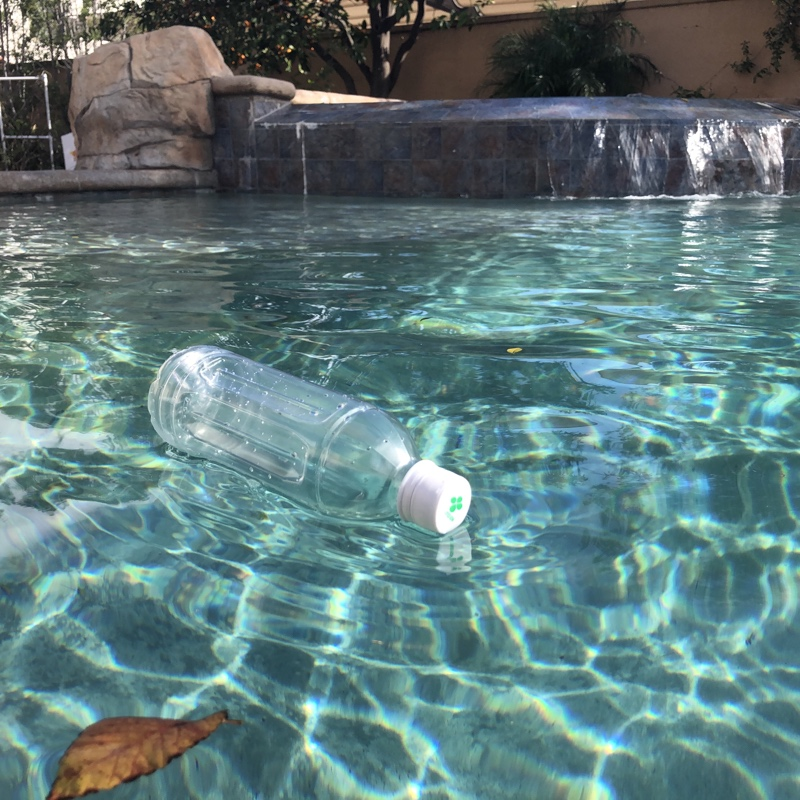Plastic Bottle: (144, 338, 475, 542)
